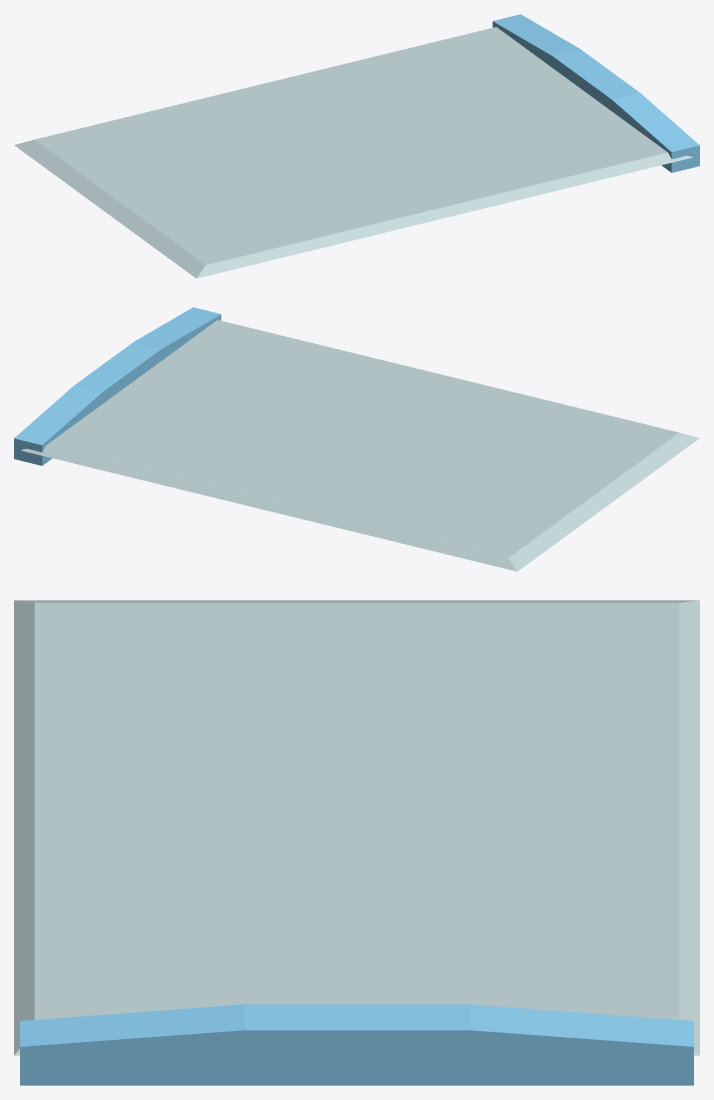
Rendered from trash2.gltf.
3 views of the same model, one above another, from view 1: azimuth 30°, elevation 25°; view 2: azimuth 150°, elevation 25°; view 3: azimuth 270°, elevation 25° (orthographic). The views are drawn at different scales.
Parts seen in each view (by area): view 1: plane, Trash_clear; view 2: plane, Trash_clear; view 3: plane, Trash_clear.
Part boxes in pixels (x1,y1,x2,y2): plane: [14, 27, 692, 278]; Trash_clear: [492, 14, 699, 172]; plane: [21, 320, 699, 571]; Trash_clear: [14, 307, 221, 465]; plane: [14, 600, 699, 1055]; Trash_clear: [20, 1004, 693, 1085].
Bounding box in the file's own units: 0.2797 × 0.0156 × 0.175.
Materials: 1 (1 with a texture image).
